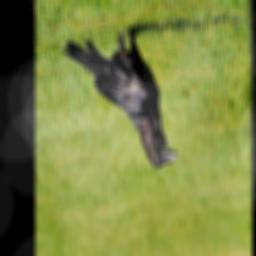Crow: (62, 22, 180, 172)
